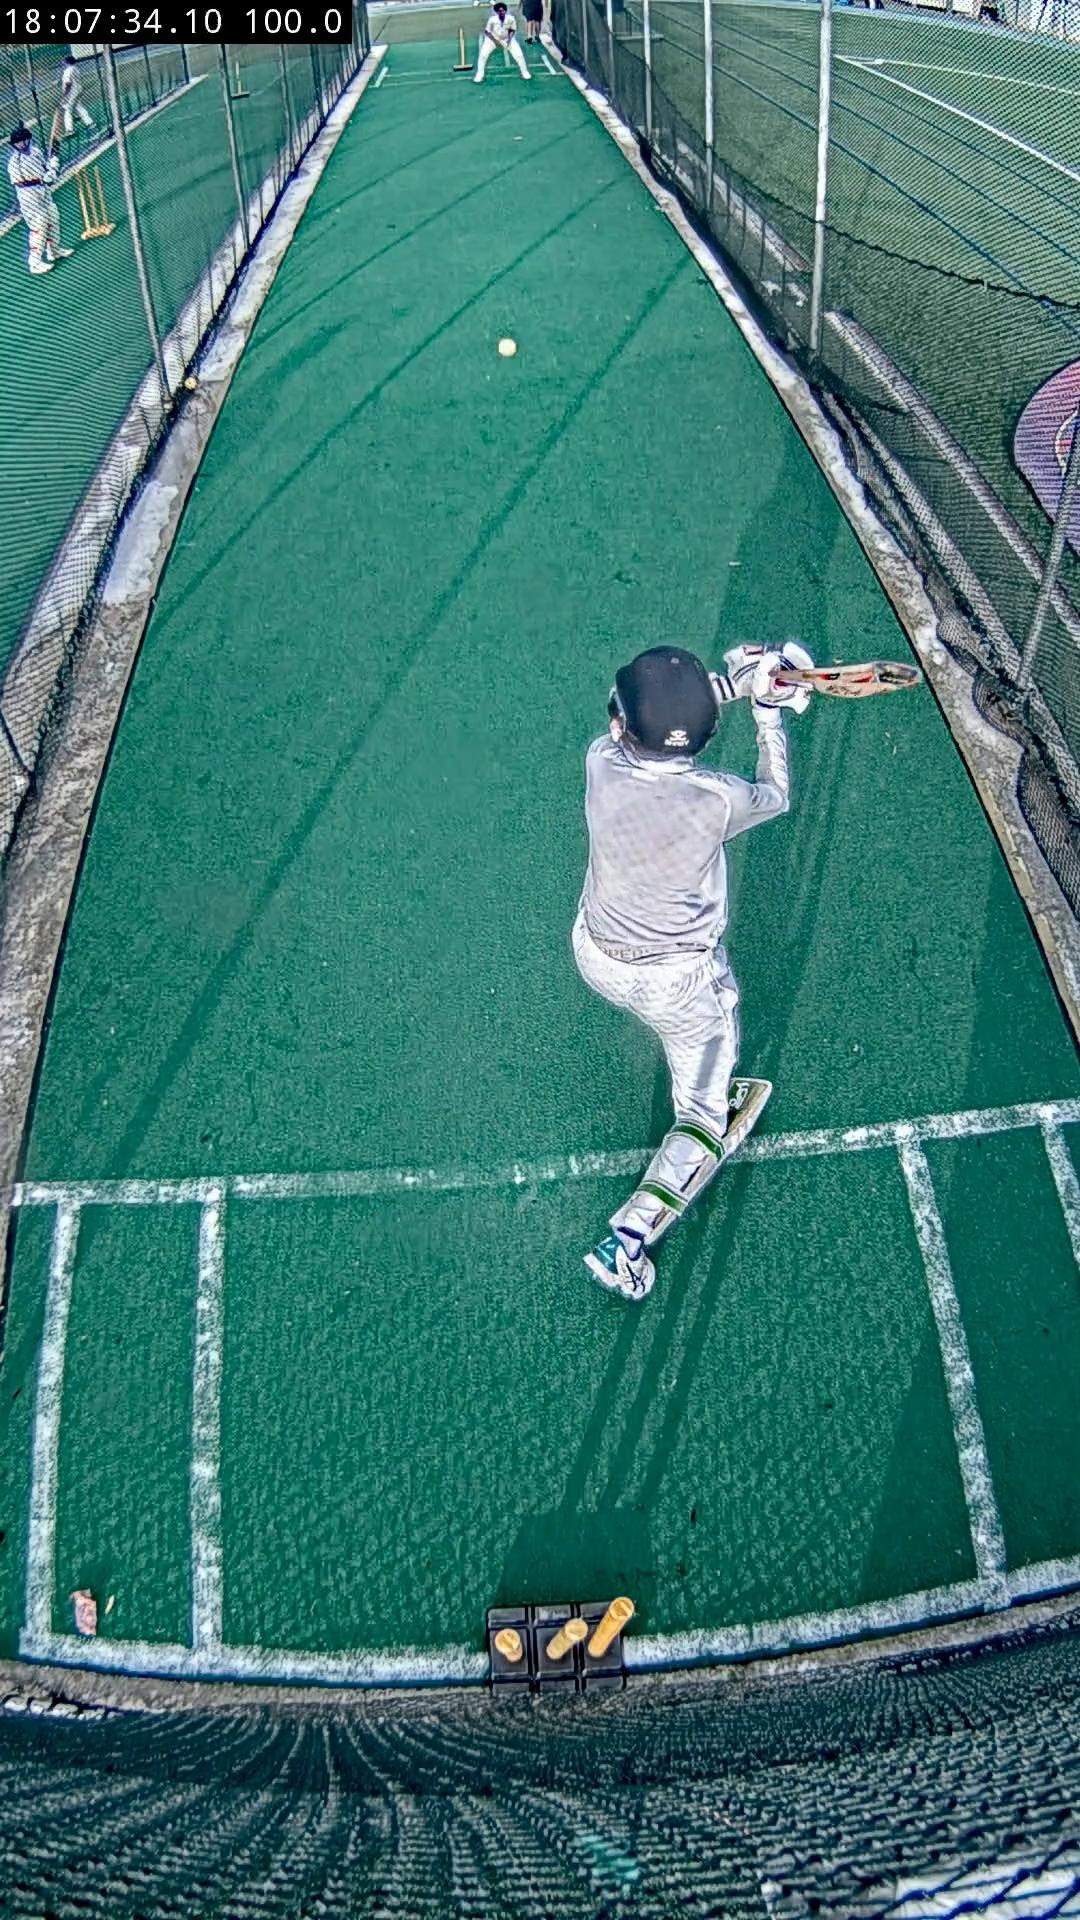ball: (498, 338, 517, 355)
bat: (777, 659, 923, 698)
gloves: (724, 641, 814, 711)
helmet: (615, 645, 720, 754)
pads: (679, 1076, 773, 1209)
stumps: (488, 1597, 634, 1692)
